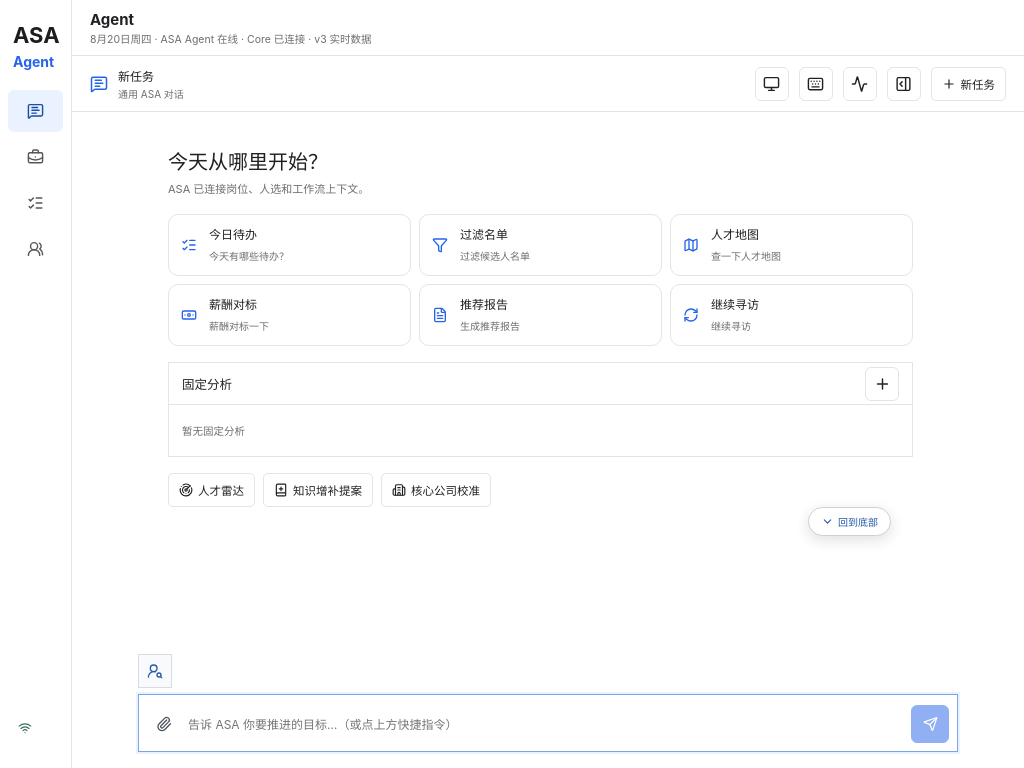
Test: R7 候选人增量刷新 › Mapping 新建岗位关系事件立即回读主候选人与岗位列表
Click the 4th button named "人选列表": (36, 249) [8, 228, 63, 270]
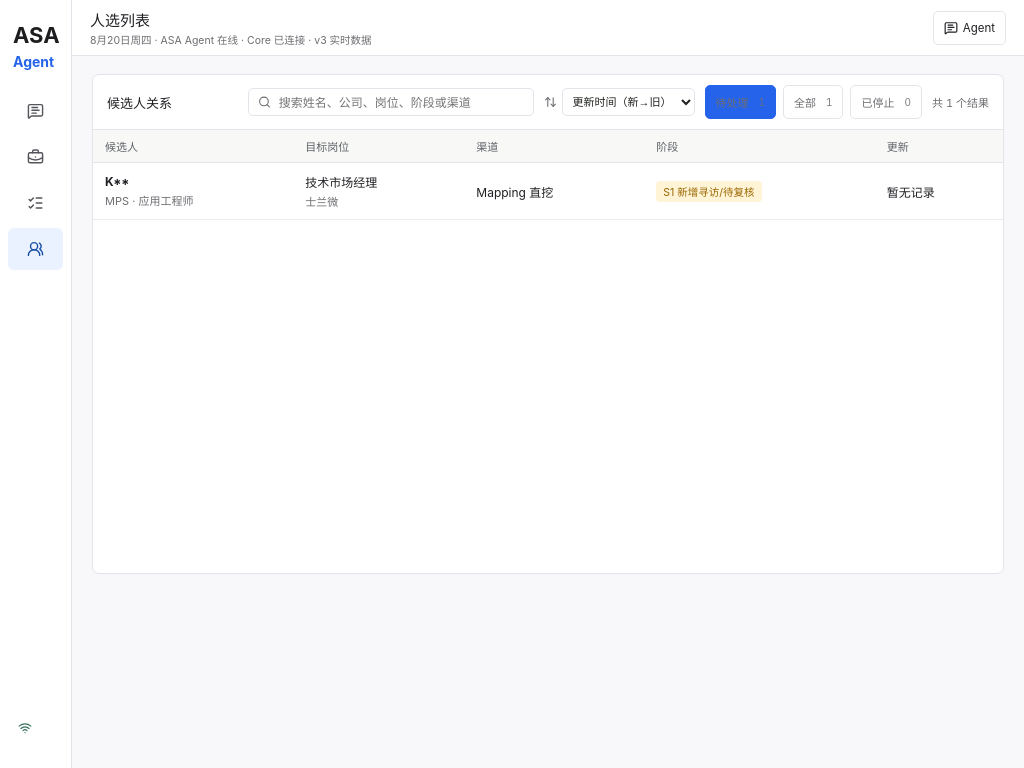
Check: the row named "打开候选人 K**" is shown, box [93, 163, 1003, 220]
